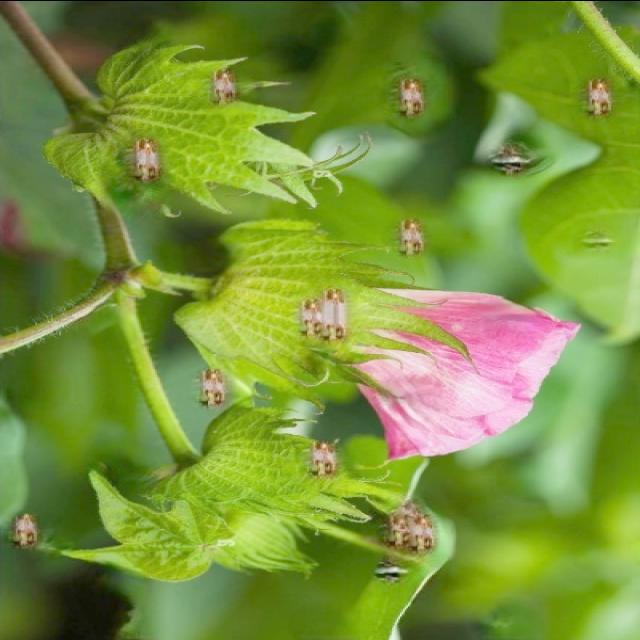Cotton Blossom: (198, 219, 572, 455)
Cotton Bud: (102, 424, 380, 588), (59, 43, 321, 208)
